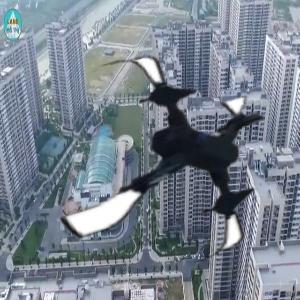drone: (45, 46, 280, 281)
